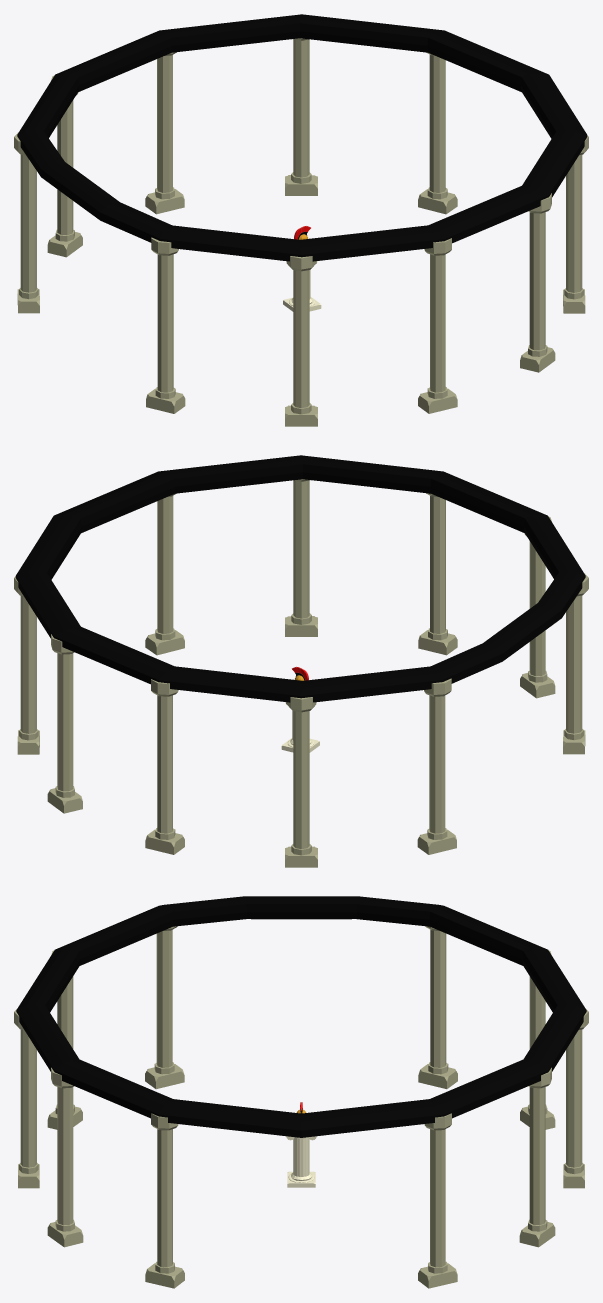
Rendered from HadesAltar.fbx.
3 views of the same model, one above another, from view 1: azimuth 30°, elevation 25°; view 2: azimuth 150°, elevation 25°; view 3: azimuth 270°, elevation 25° (orthographic).
Visible parts, largest first — view 1: Porticus, Pillars; view 2: Porticus, Pillars; view 3: Porticus, Pillars, Pedestal.
Part boxes in pixels (bbox=[...]): Porticus: bbox=[17, 14, 587, 261]; Pillars: bbox=[14, 38, 588, 426]; Porticus: bbox=[15, 455, 585, 702]; Pillars: bbox=[14, 479, 588, 867]; Porticus: bbox=[16, 896, 586, 1137]; Pillars: bbox=[14, 926, 588, 1288]; Pedestal: bbox=[286, 1136, 316, 1187].
Bounding box in the file's own units: 1804 × 637 × 1879.
